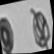correct: (0, 10, 20, 54)
not correct: (26, 1, 54, 51)
